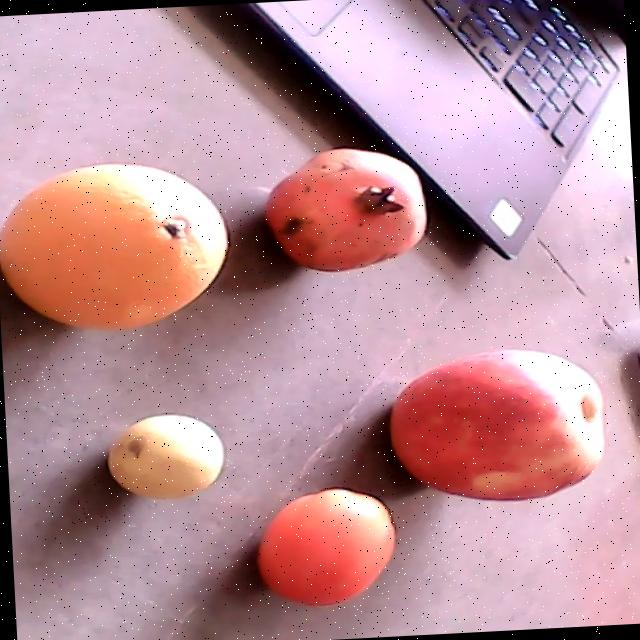apple: (389, 349, 606, 501)
lemon: (108, 416, 224, 501)
orange: (0, 162, 227, 331)
pomegranate: (263, 148, 426, 272)
tomato: (256, 488, 395, 608)
